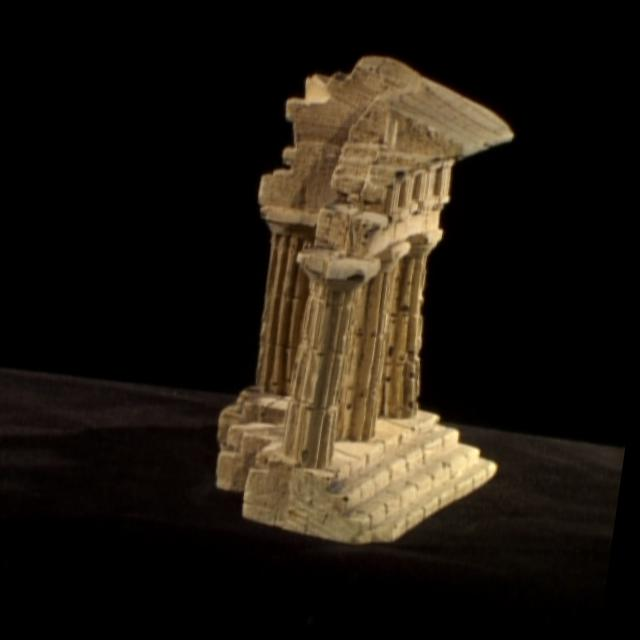Instance-Segmentation: (217, 57, 512, 543)
